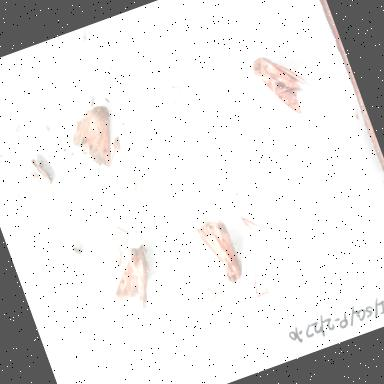abw: (246, 38, 328, 132), (96, 236, 170, 324), (59, 95, 132, 182), (188, 207, 254, 294)
